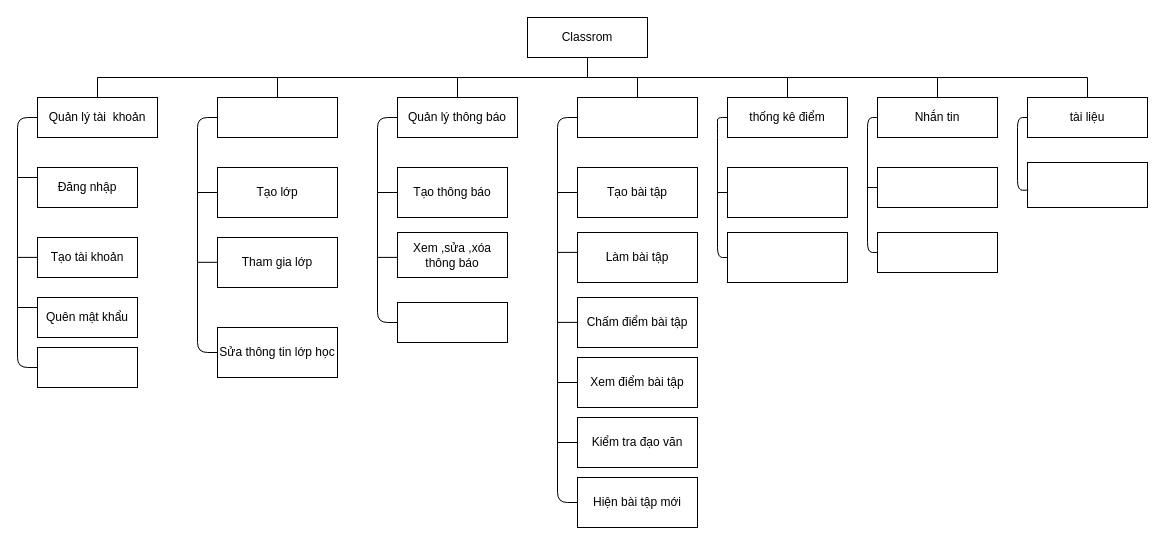
Image size: 1165x545. Some labels were removed from this diagram. The shapes that lost their labels are listed below. From the top down, each one's centre as x and y in pixels, then its label:
point (277, 117): Quản lý lớp học
point (637, 117): Quản lý bài tập
point (787, 192): Xem điểm theo danh sách
point (937, 187): Gửi tin nhắn
point (1087, 185): Tìm kiếm tài liệu
point (787, 257): Xem điểm sinh viên
point (937, 252): Hiện tin nhắn đến
point (452, 322): Hiện thông báo mới
point (87, 367): Đăng xuất
